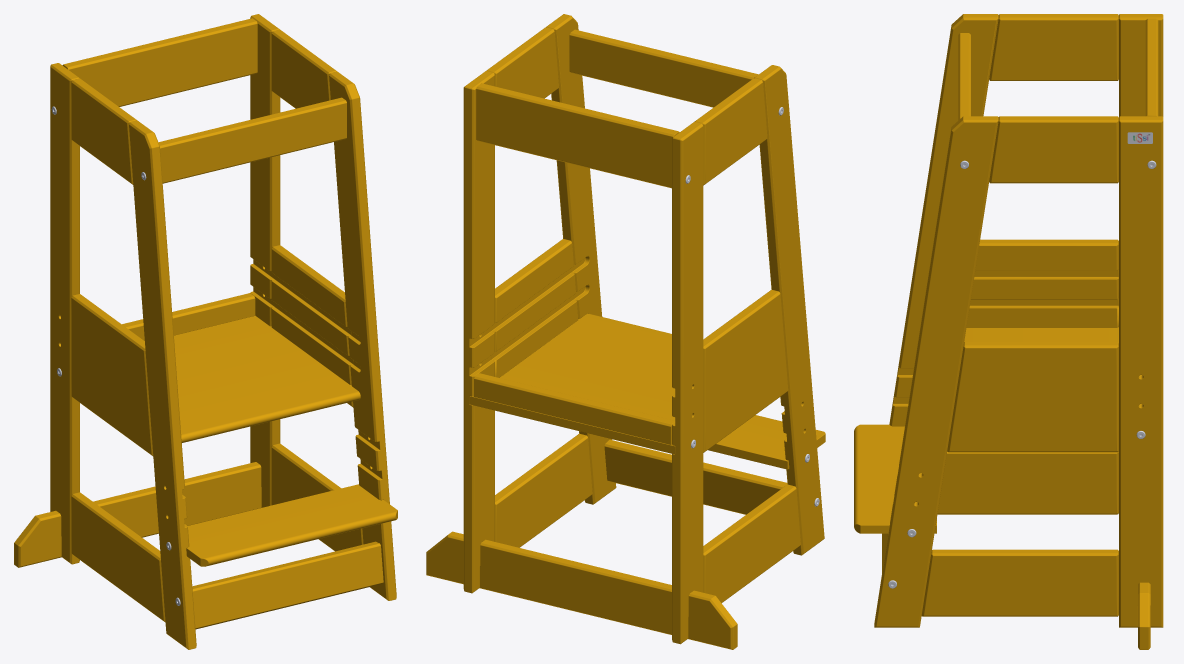
Rendered from Lernturm_Felix_Tower_Basic_Static_Wood_Yellow_c.glb.
The picture shows the model from 3 angles, left to right: view 1: azimuth 30°, elevation 25°; view 2: azimuth 150°, elevation 25°; view 3: azimuth 270°, elevation 25°; orthographic projection. The views are drawn at different scales.
Visible parts, largest first — view 1: Lernturm_Felix_Tower; view 2: Lernturm_Felix_Tower; view 3: Lernturm_Felix_Tower.
Part boxes in pixels (bbox=[...]): Lernturm_Felix_Tower: bbox=[14, 14, 397, 649]; Lernturm_Felix_Tower: bbox=[426, 14, 825, 649]; Lernturm_Felix_Tower: bbox=[854, 14, 1163, 649].
Size of the model in its own units: 0.56 by 0.88 by 0.4959.
4 materials, 2 textured.
